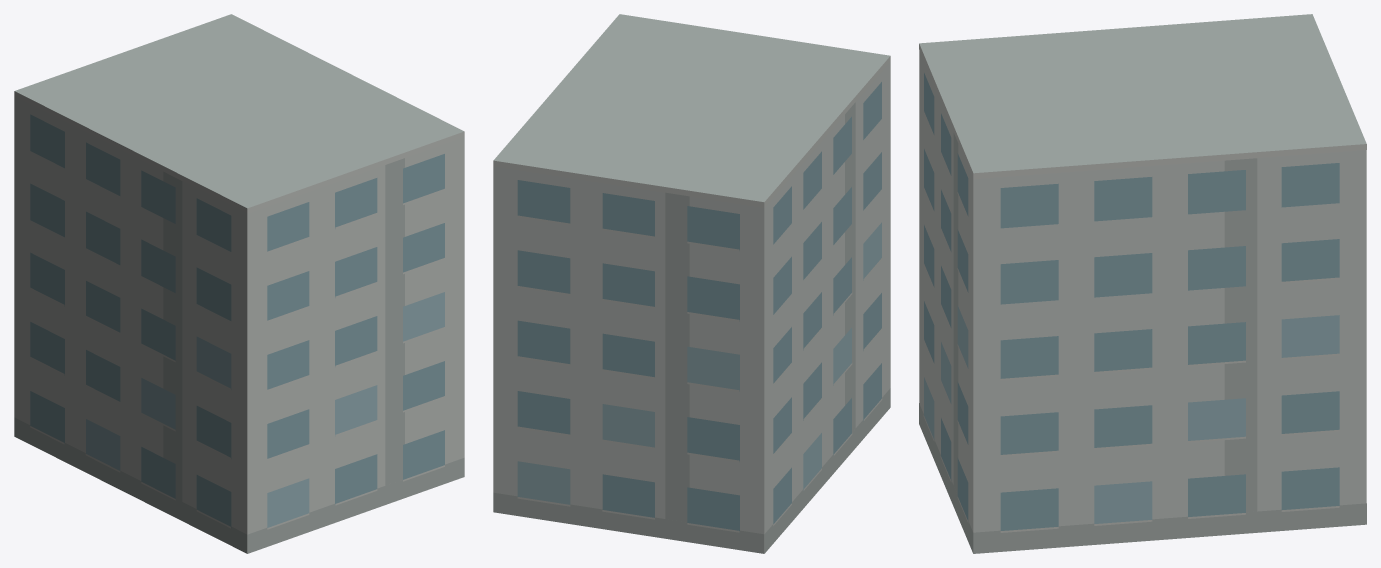
File: residential-06db3608-6def-41dd-a926-369f26d67d41.glb
3 views of the same model, side by side, from view 1: azimuth 30°, elevation 25°; view 2: azimuth 150°, elevation 25°; view 3: azimuth 270°, elevation 25° (orthographic). The views are drawn at different scales.
Parts seen in each view (by area): view 1: residential-06db3608-6def-41dd-a926-369f26d67d41.tmp; view 2: residential-06db3608-6def-41dd-a926-369f26d67d41.tmp; view 3: residential-06db3608-6def-41dd-a926-369f26d67d41.tmp.
Part boxes in pixels (x1,y1,x2,y2): residential-06db3608-6def-41dd-a926-369f26d67d41.tmp: (14,14,464,553); residential-06db3608-6def-41dd-a926-369f26d67d41.tmp: (493,14,890,553); residential-06db3608-6def-41dd-a926-369f26d67d41.tmp: (919,14,1366,553).
Bounding box in the file's own units: 13.69 × 15.25 × 16.26.
